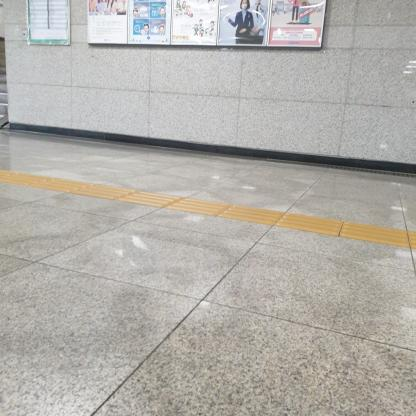go: (339, 222, 411, 248), (273, 213, 344, 236), (216, 205, 286, 226), (162, 198, 233, 216), (114, 191, 185, 208)
